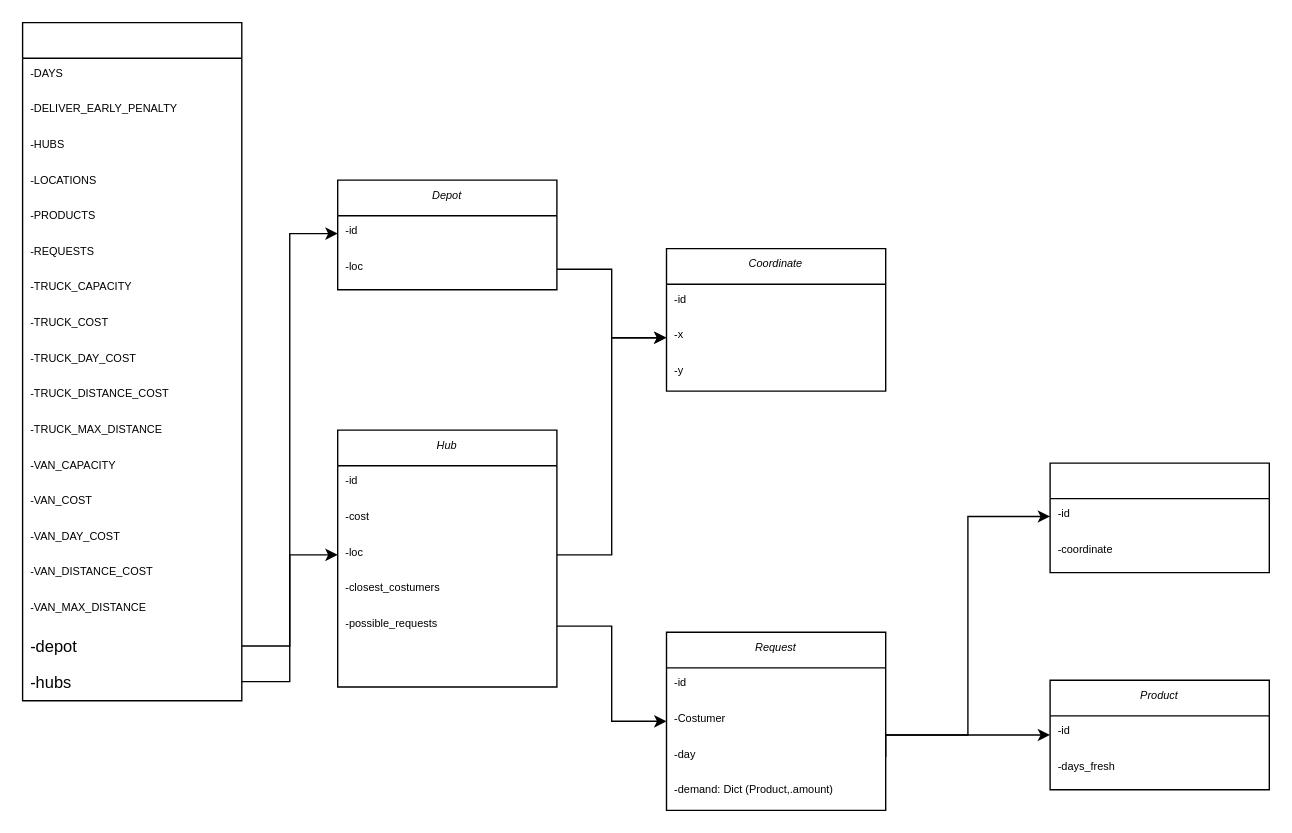
The diagram is 1292 pixels wide and 833 high, and some of its shapes have lost their labels. The box of each missing label's shape, as (x1, y1, x2, y2) in pixels:
Consumer: (1049, 462, 1269, 573)
Instance: (21, 21, 242, 701)
